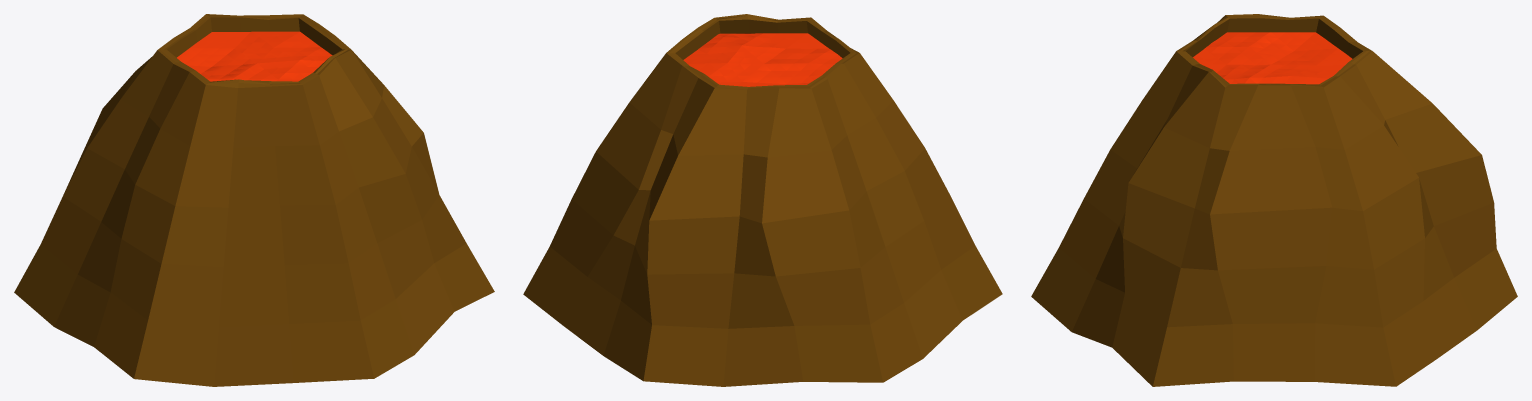
Rendered from Volcanzote.fbx.
3 views of the same model, side by side, from view 1: azimuth 30°, elevation 25°; view 2: azimuth 150°, elevation 25°; view 3: azimuth 270°, elevation 25° (orthographic).
Visible parts, largest first — view 1: Hex10.015, Hex10.016; view 2: Hex10.015, Hex10.016; view 3: Hex10.015, Hex10.016.
Boxes of the visible parts, <box> form: Hex10.015: <box>14,14,494,386</box>; Hex10.016: <box>177,31,332,81</box>; Hex10.015: <box>523,14,1002,386</box>; Hex10.016: <box>683,33,842,86</box>; Hex10.015: <box>1031,14,1517,386</box>; Hex10.016: <box>1193,32,1352,84</box>.
Bounding box in the file's own units: 5744 × 3855 × 6606.
